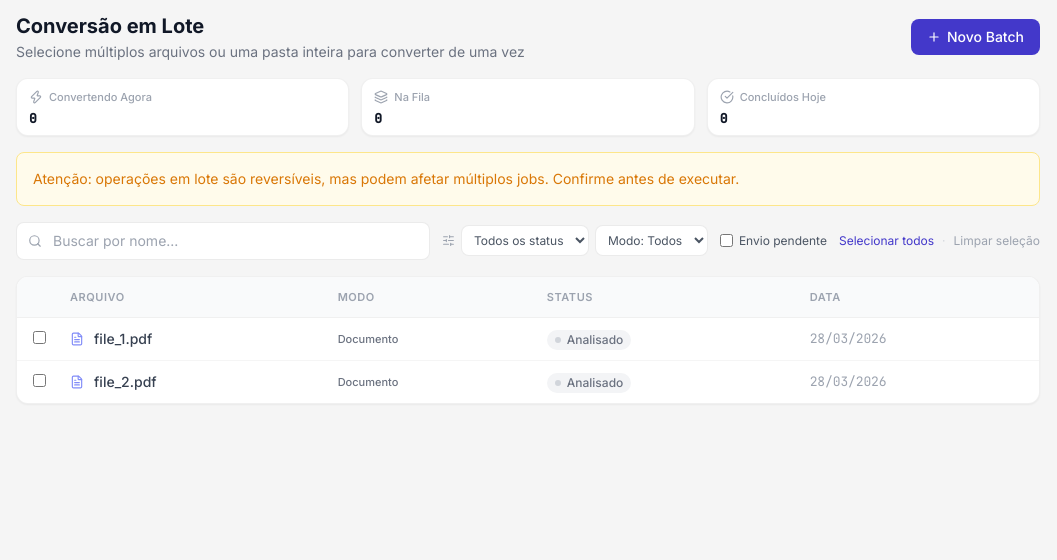
Scenario: BatchPage › selectAll selects all visible jobs; selectNone clears
The image size is (1057, 560).
expect the text "file_1.pdf" is shown: met, box x1=94 y1=328 x2=152 y2=348
Click the button "Selecionar todos". click: (886, 240)
box: x1=839 y1=232 x2=934 y2=248
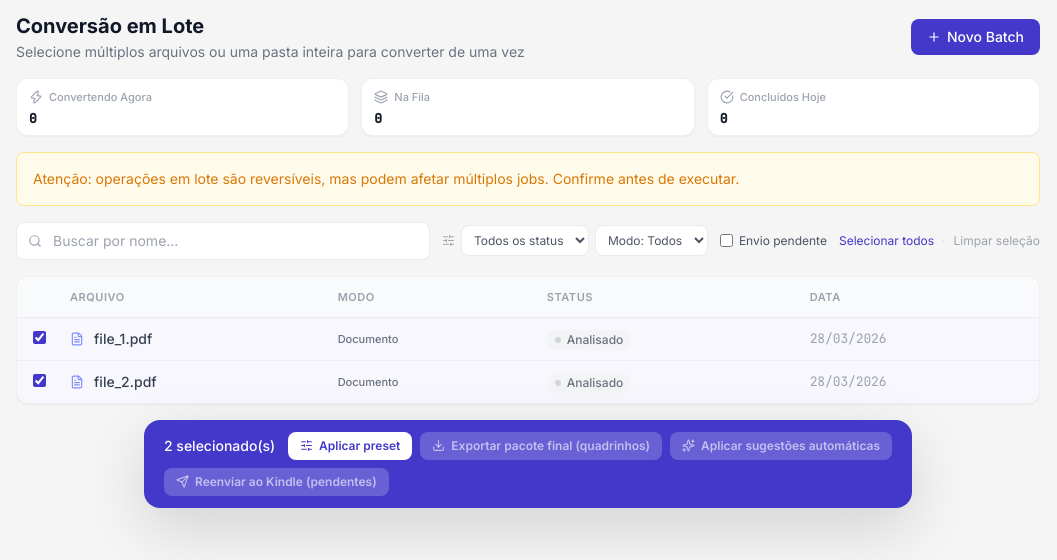
expect the checkbox named "file_1.pdf" is checked: met, box x1=33 y1=330 x2=46 y2=344
expect the checkbox named "file_2.pdf" is checked: met, box x1=33 y1=374 x2=46 y2=386
Click the button "Limpar seleção". click: (997, 240)
box: x1=954 y1=232 x2=1040 y2=248
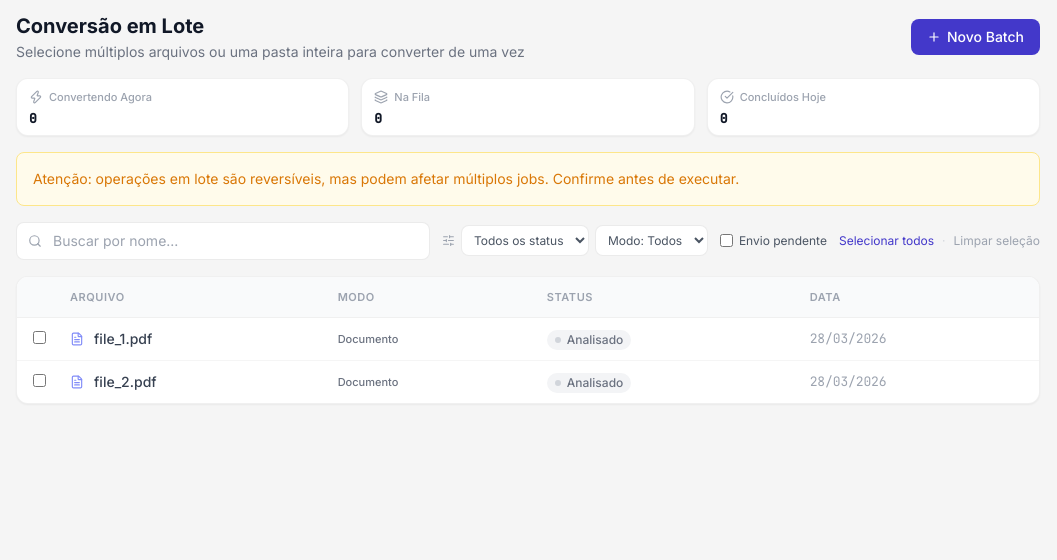
expect the checkbox named "file_1.pdf" is not checked: met, box x1=33 y1=330 x2=46 y2=344
expect the checkbox named "file_2.pdf" is not checked: met, box x1=33 y1=374 x2=46 y2=386
